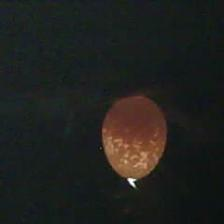infertile: (100, 95, 170, 181)
